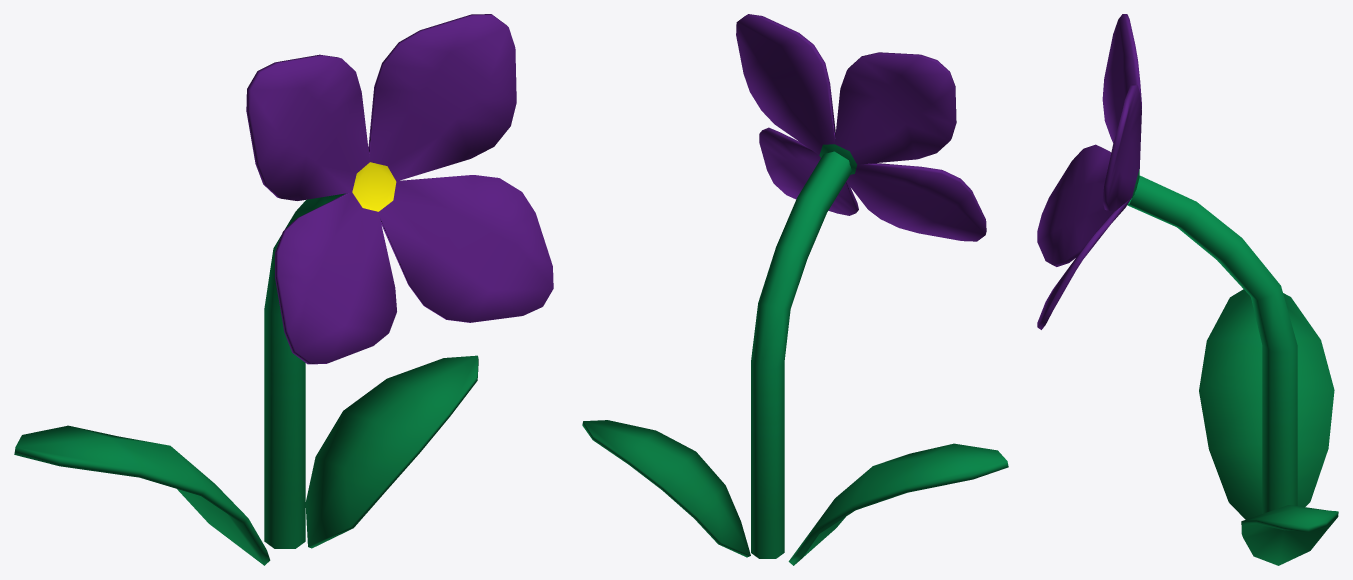
Rendered from Flover_03.2.fbx.
The picture shows the model from 3 angles, left to right: view 1: azimuth 30°, elevation 25°; view 2: azimuth 150°, elevation 25°; view 3: azimuth 270°, elevation 25°; orthographic projection. The views are drawn at different scales.
Visible parts, largest first — view 1: Flover_03.2; view 2: Flover_03.2; view 3: Flover_03.2.
Boxes of the visible parts, left/top/right/bottom form: Flover_03.2: left=14, top=14, right=553, bottom=565; Flover_03.2: left=582, top=14, right=1008, bottom=565; Flover_03.2: left=1037, top=14, right=1338, bottom=565.
Size of the model in its own units: 36.31 by 22.5 by 40.9.
